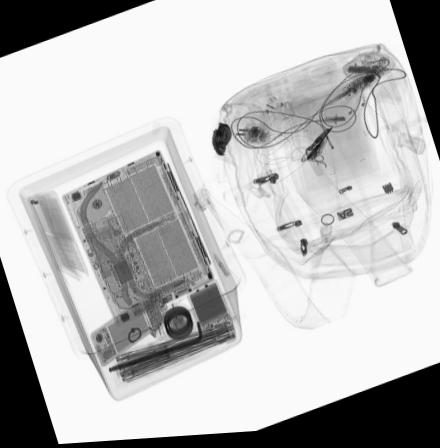Powerbank: (186, 281, 232, 341)
